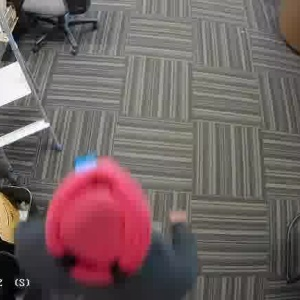person: (17, 159, 198, 293)
